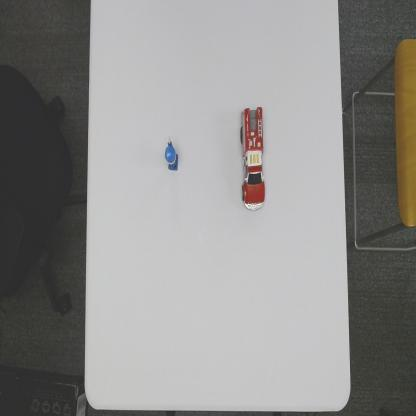Firetruck: (239, 105, 266, 211)
